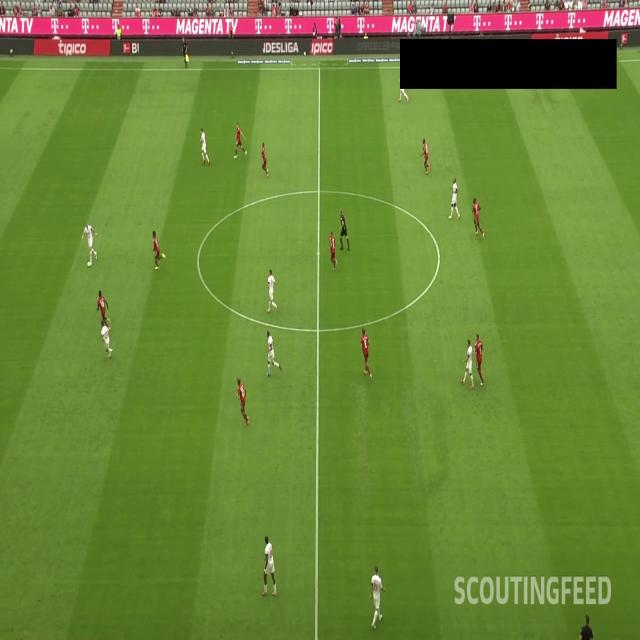ball: (85, 258, 92, 270)
player: (366, 563, 385, 629), (261, 528, 277, 600), (235, 368, 251, 428), (81, 218, 99, 268), (96, 284, 112, 340), (473, 331, 488, 390), (459, 334, 474, 390), (148, 227, 167, 271), (470, 192, 486, 244), (358, 327, 373, 381), (265, 262, 279, 316), (446, 175, 462, 220), (232, 118, 248, 161), (267, 331, 281, 380), (100, 315, 114, 361), (199, 125, 211, 168), (327, 227, 338, 271), (261, 140, 272, 180), (420, 134, 431, 174), (396, 74, 408, 103)
referee: (338, 208, 352, 252), (180, 34, 191, 68)
